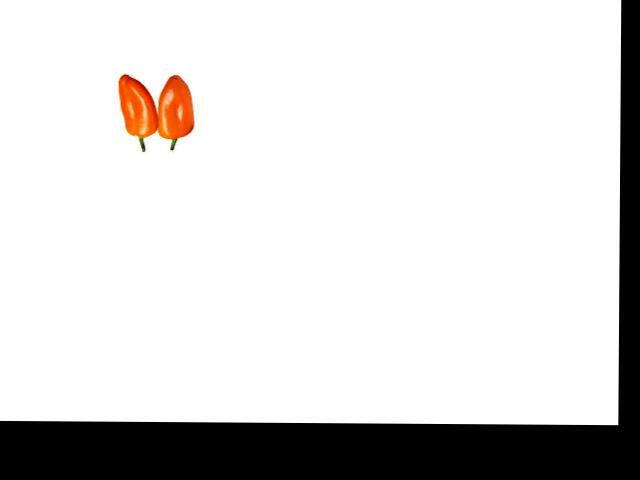bell_pepper: (155, 59, 202, 152)
